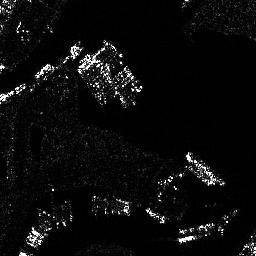ship: (184, 150, 226, 186), (122, 63, 143, 91), (176, 230, 211, 243), (144, 206, 166, 224), (35, 64, 51, 78)
